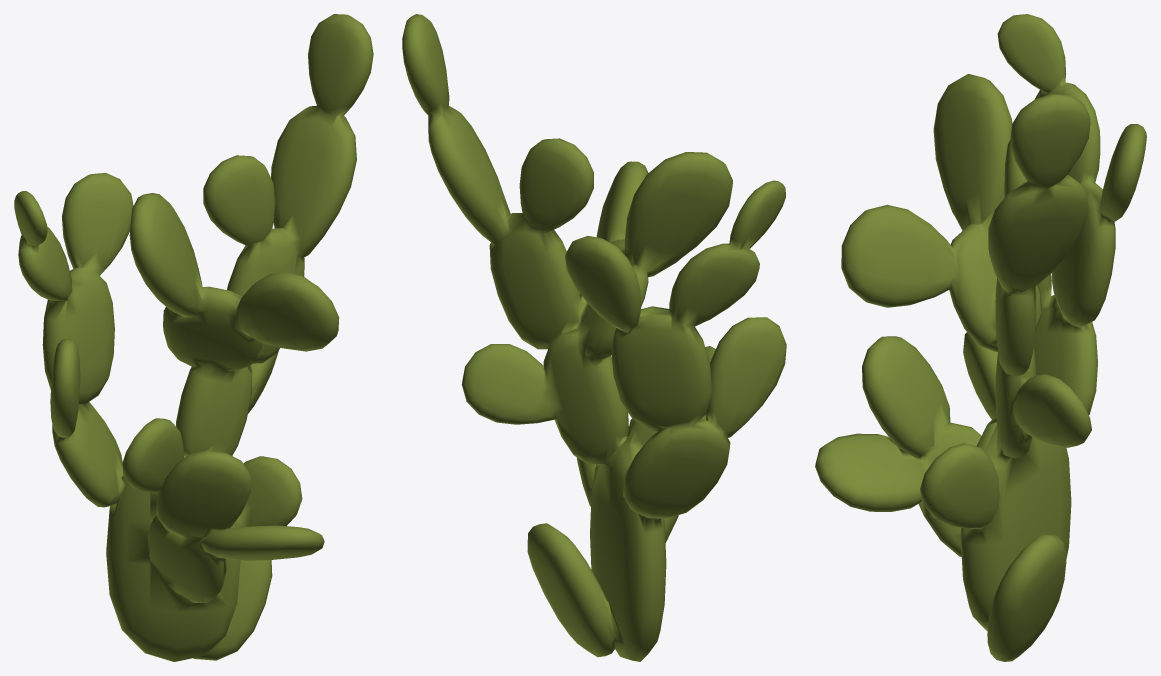
The model's file is cactus_grand.fbx.
3 renders of one model, left to right at view 1: azimuth 30°, elevation 25°; view 2: azimuth 150°, elevation 25°; view 3: azimuth 270°, elevation 25°, orthographic. The views are drawn at different scales.
Parts seen in each view (by area): view 1: Cube.003; view 2: Cube.003; view 3: Cube.003.
Boxes of the visible parts, bbox=[...] form: Cube.003: bbox=[14, 14, 373, 661]; Cube.003: bbox=[402, 14, 786, 661]; Cube.003: bbox=[815, 14, 1146, 661].
Size of the model in its own units: 112 by 179 by 83.52.
